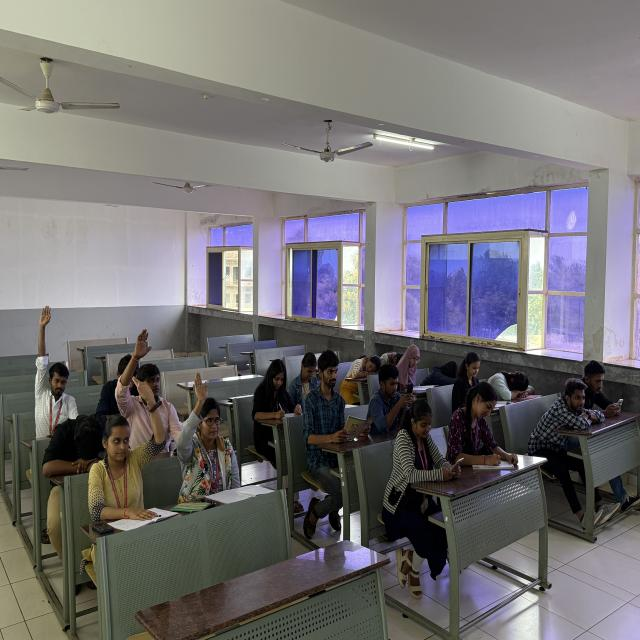Hand Rising: (95, 372, 163, 525), (16, 288, 88, 430), (178, 353, 237, 494), (118, 325, 180, 430)
Sleeping: (41, 403, 114, 504), (487, 359, 539, 413), (346, 350, 383, 396), (426, 354, 461, 396), (375, 336, 405, 371)
Using Phone: (386, 402, 466, 512), (575, 358, 634, 420), (370, 364, 418, 434)
Writing: (458, 384, 519, 475), (250, 353, 308, 445)
